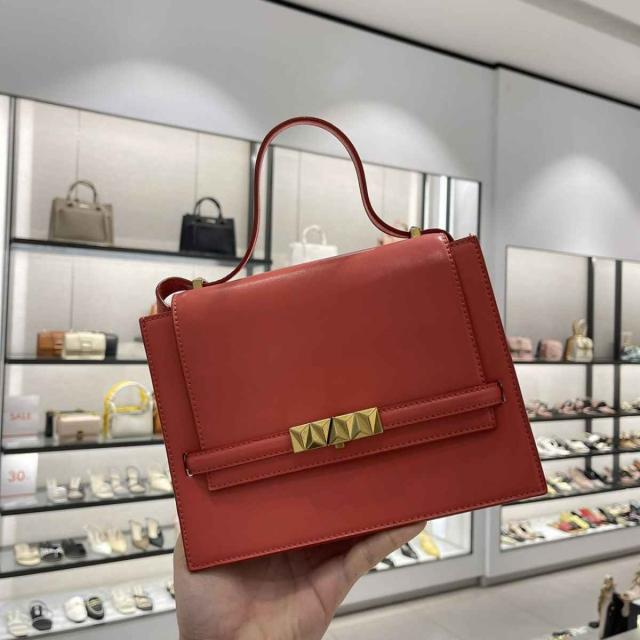Handbag: (128, 218, 552, 586)
